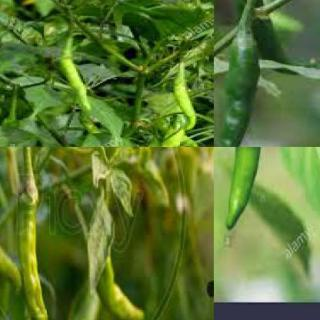green_chilli: (214, 35, 268, 146), (243, 0, 319, 75), (15, 189, 56, 319), (57, 39, 105, 138), (223, 147, 271, 228), (93, 259, 149, 319), (0, 205, 24, 302), (170, 61, 198, 132), (0, 118, 35, 146)
